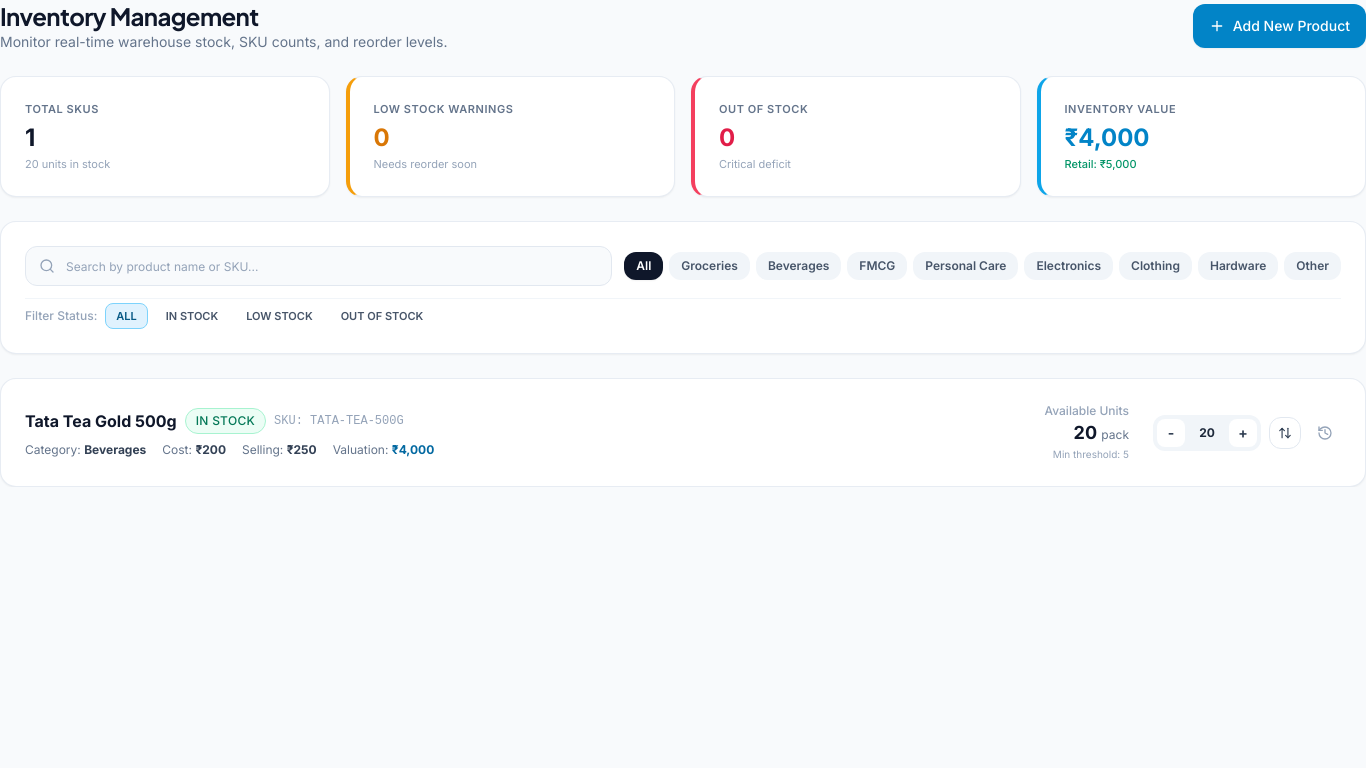
Test case: Nirmaan Web — Phase 4: Core Business Operations Suite › 9. inventory stock movement display opens history modal with past movements
The width and height of the screenshot is (1366, 768).
Check: the text "Tata Tea Gold 500g" is shown, box top-left (25, 408), bottom-right (177, 432)
Click the button titled "view stock movement history" at (1325, 432), box top-left (1309, 416), bottom-right (1341, 448)
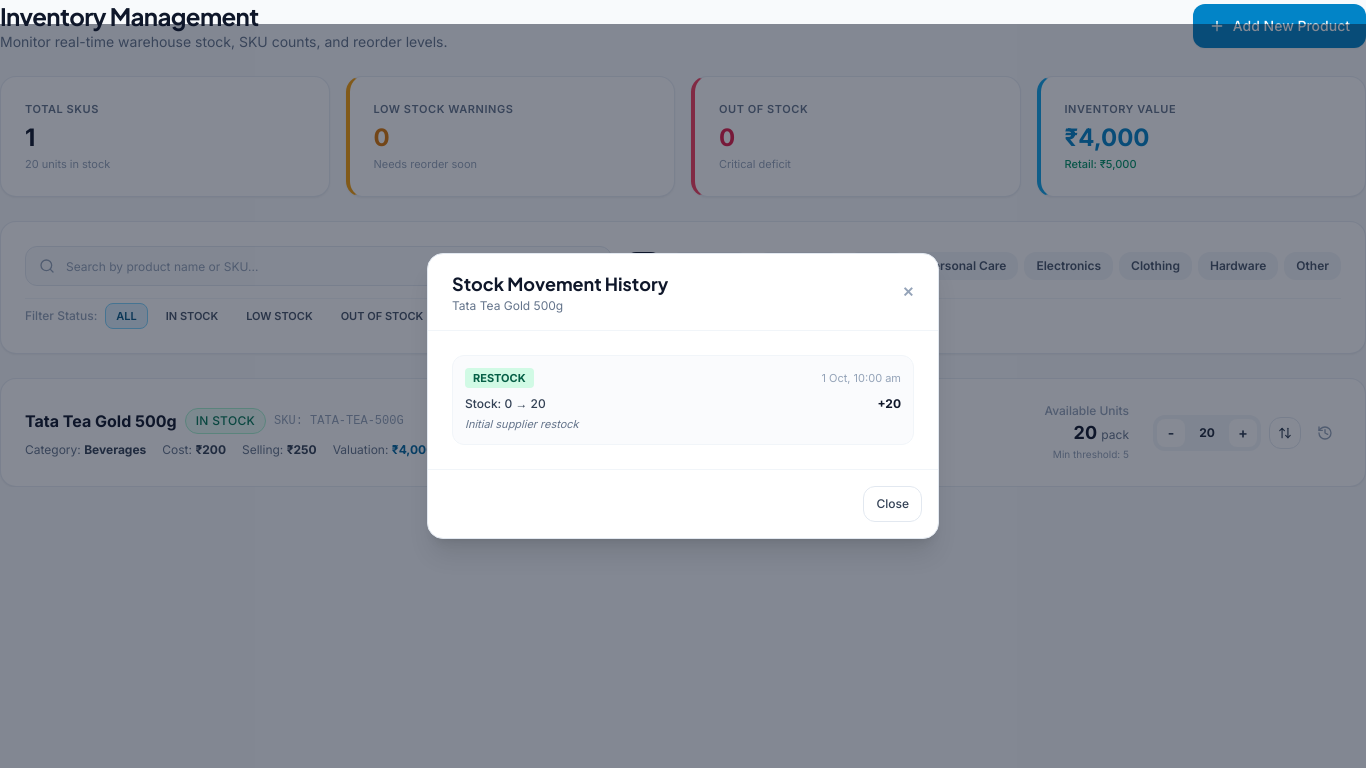
Check: the heading "Stock Movement History" is shown, box top-left (452, 270), bottom-right (668, 298)
Check: the text "Initial supplier restock" is shown, box top-left (465, 417), bottom-right (579, 431)
Check: the text "Stock: 0 → 20" is shown, box top-left (465, 396), bottom-right (546, 412)
